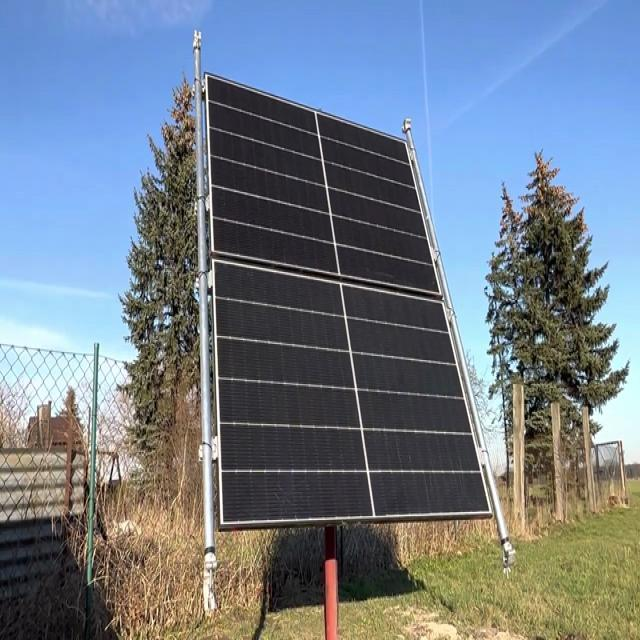Normal Solar Panel: (205, 73, 493, 527)
